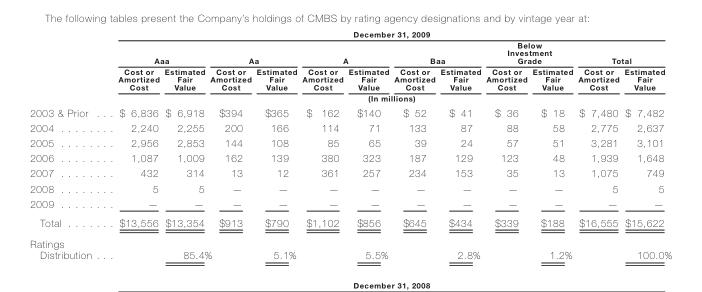table: (29, 28, 671, 260)
table column: (29, 28, 104, 260), (104, 28, 161, 260), (621, 28, 671, 260), (161, 28, 210, 260), (298, 28, 345, 260), (390, 28, 437, 260), (482, 28, 529, 260), (574, 28, 621, 260), (253, 28, 298, 260), (345, 28, 390, 260), (437, 28, 482, 260), (529, 28, 574, 260), (210, 28, 253, 260)
table column header: (29, 28, 671, 104)
table row: (29, 232, 671, 260), (29, 65, 671, 92), (29, 39, 671, 65), (29, 212, 671, 232), (29, 195, 671, 212), (29, 119, 671, 135), (29, 104, 671, 119), (29, 135, 671, 150), (29, 150, 671, 165), (29, 165, 671, 180), (29, 180, 671, 195), (29, 92, 671, 104), (29, 28, 671, 39)
table spanning cell: (104, 92, 671, 104), (104, 28, 671, 39), (104, 39, 210, 65), (574, 39, 671, 65), (298, 39, 390, 65), (390, 39, 482, 65), (482, 39, 574, 65), (210, 39, 298, 65)
